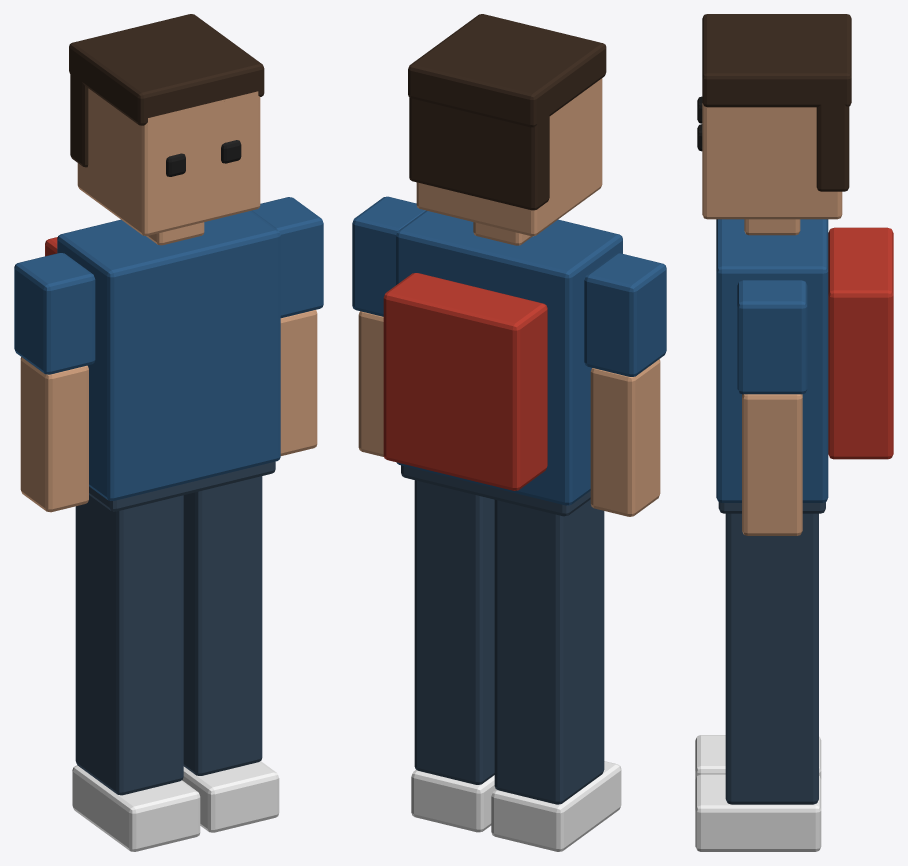
Rendered from personagem.glb.
The picture shows the model from 3 angles, left to right: view 1: azimuth 30°, elevation 25°; view 2: azimuth 150°, elevation 25°; view 3: azimuth 270°, elevation 25°; orthographic projection. The views are drawn at different scales.
Parts seen in each view (by area): view 1: Tronco, Perna_Direita, Cabeca, Perna_Esquerda, Braco_Direito, Braco_Esquerdo; view 2: Tronco, Perna_Direita, Cabeca, Perna_Esquerda, Braco_Direito, Braco_Esquerdo; view 3: Perna_Esquerda, Tronco, Cabeca, Braco_Esquerdo, Perna_Direita.
Boxes of the visible parts, <box> form: Tronco: <box>45,211,280,511</box>; Perna_Direita: <box>72,495,200,851</box>; Cabeca: <box>69,14,264,245</box>; Perna_Esquerda: <box>182,476,279,832</box>; Braco_Direito: <box>14,253,95,512</box>; Braco_Esquerdo: <box>251,197,323,455</box>; Tronco: <box>383,210,622,516</box>; Perna_Direita: <box>491,499,621,851</box>; Cabeca: <box>408,14,606,245</box>; Perna_Esquerda: <box>411,480,495,832</box>; Braco_Direito: <box>584,253,666,516</box>; Braco_Esquerdo: <box>352,196,425,456</box>; Perna_Esquerda: <box>695,513,821,851</box>; Tronco: <box>716,219,893,513</box>; Cabeca: <box>697,14,851,235</box>; Braco_Esquerdo: <box>737,280,807,535</box>; Perna_Direita: <box>695,735,821,779</box>.
Bounding box in the file's own units: 0.71 × 1.83 × 0.425.
